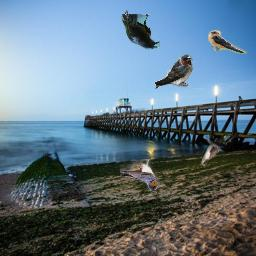Crow: (121, 10, 160, 50)
Cuckoo: (199, 132, 239, 165)
Swallow: (154, 54, 194, 89), (120, 159, 160, 190), (208, 29, 248, 54)
